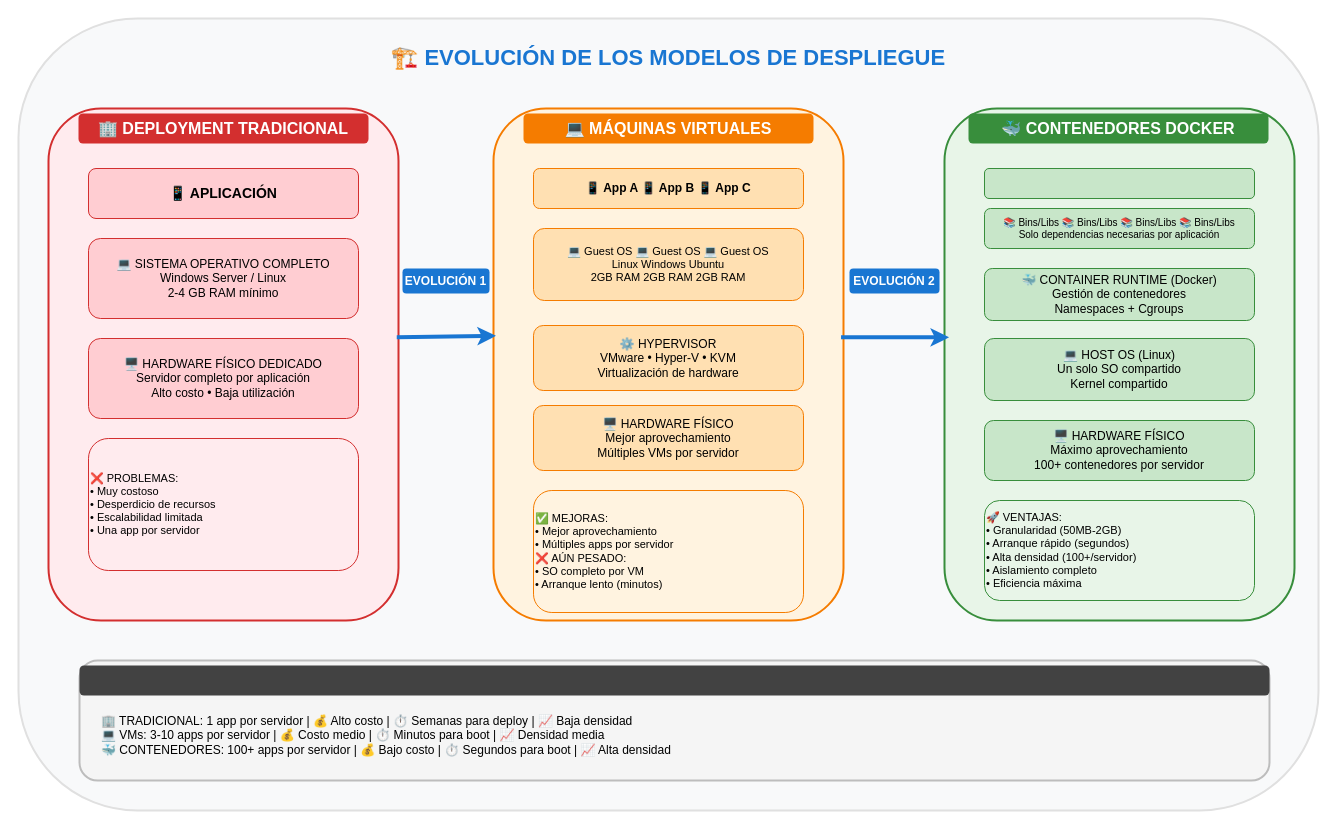
Some shapes in this 1336 by 828 pixel diagram are drawn without their labels. The shapes that lost their labels are listed below. From the top down, each one's centre as x and y in pixels, then its label:
At (1119,183): "📱 App A 📱 App B 📱 App C 📱 App D".
At (674,680): "📊 COMPARACIÓN DE RENDIMIENTO".
